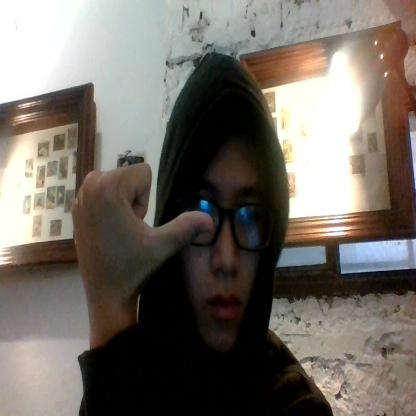left: (71, 162, 214, 281)
